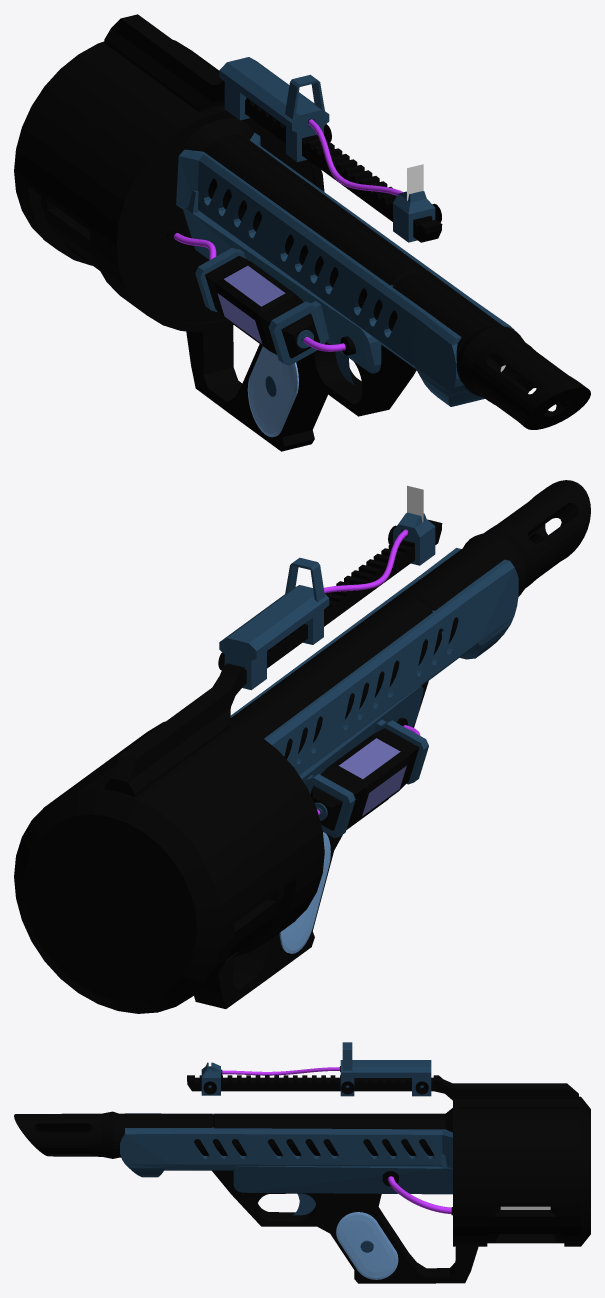
File: Pancor NMB20.fbx
3 views of the same model, one above another, from view 1: azimuth 30°, elevation 25°; view 2: azimuth 150°, elevation 25°; view 3: azimuth 270°, elevation 25° (orthographic). The views are drawn at different scales.
Parts seen in each view (by area): view 1: Body, Barrel, Grip, Sight, Battery, Mag; view 2: Body, Barrel, Sight, Battery, Grip, Mag; view 3: Body, Barrel, Grip, Sight, Mag.
Part boxes in pixels (x1=…): Body: x1=14, y1=14, x2=514, y2=406; Barrel: x1=177, y1=117, x2=590, y2=429; Grip: x1=186, y1=325, x2=416, y2=451; Sight: x1=219, y1=57, x2=441, y2=242; Battery: x1=205, y1=256, x2=319, y2=358; Mag: x1=40, y1=195, x2=99, y2=270; Body: x1=14, y1=519, x2=518, y2=1013; Barrel: x1=230, y1=480, x2=590, y2=759; Sight: x1=218, y1=512, x2=435, y2=690; Battery: x1=310, y1=728, x2=419, y2=830; Grip: x1=194, y1=681, x2=428, y2=1008; Mag: x1=225, y1=887, x2=283, y2=962; Body: x1=120, y1=1075, x2=590, y2=1246; Barrel: x1=14, y1=1108, x2=452, y2=1158; Grip: x1=212, y1=1170, x2=478, y2=1283; Sight: x1=201, y1=1042, x2=431, y2=1096; Mag: x1=487, y1=1206, x2=564, y2=1243.
Size of the model in its own units: 4.53 by 7.78 by 17.4.
Materials: 3 (1 with a texture image).
